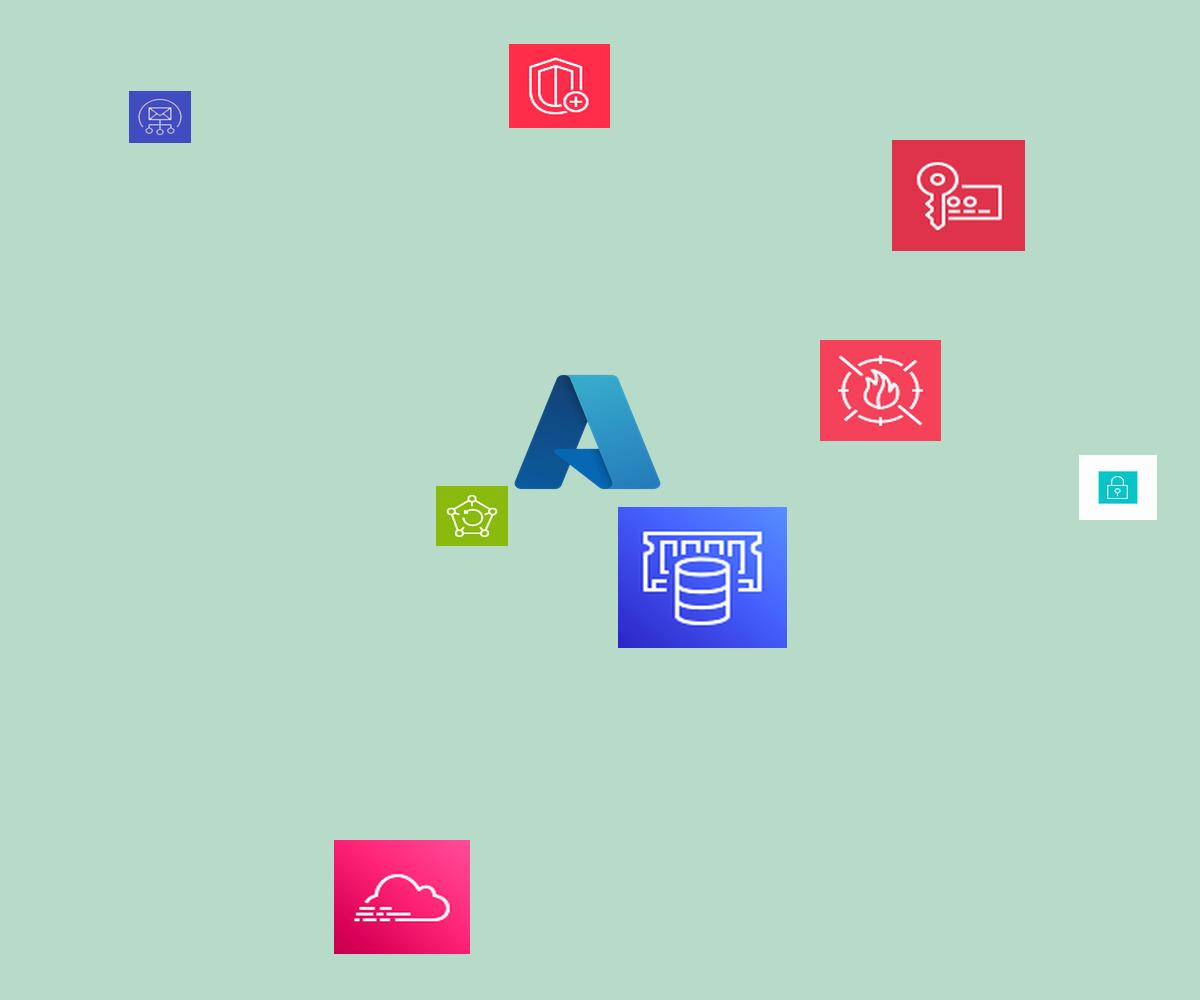AWS-Backup: (436, 486, 508, 546)
AWS-CloudTrail: (334, 840, 470, 954)
AWS-ElastiCache: (618, 507, 787, 648)
AWS-Key-Management-Service: (892, 140, 1025, 251)
AWS-Private-subnet: (1079, 455, 1157, 520)
AWS-Shield: (509, 44, 610, 128)
AWS-Simple-Email-Service: (129, 91, 191, 143)
AWS-WAF: (820, 340, 941, 441)
Azure_services: (508, 366, 667, 498)
